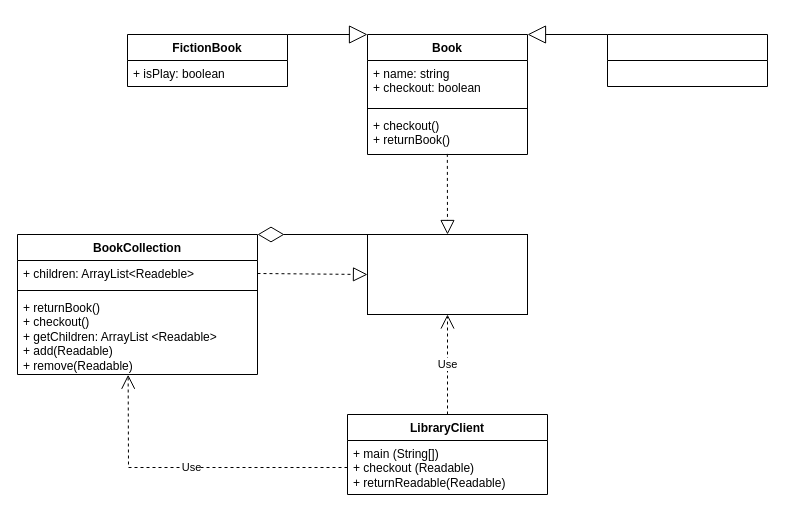
The diagram is 785 pixels wide and 515 high, and some of its shapes have lost their labels. The shapes that lost their labels are listed below. From the top down, each one's centre as x and y in pixels, then its label:
point (687, 60): NonfictionBook
point (447, 274): <<Interface>> Readable + checkout() + returnBook()
